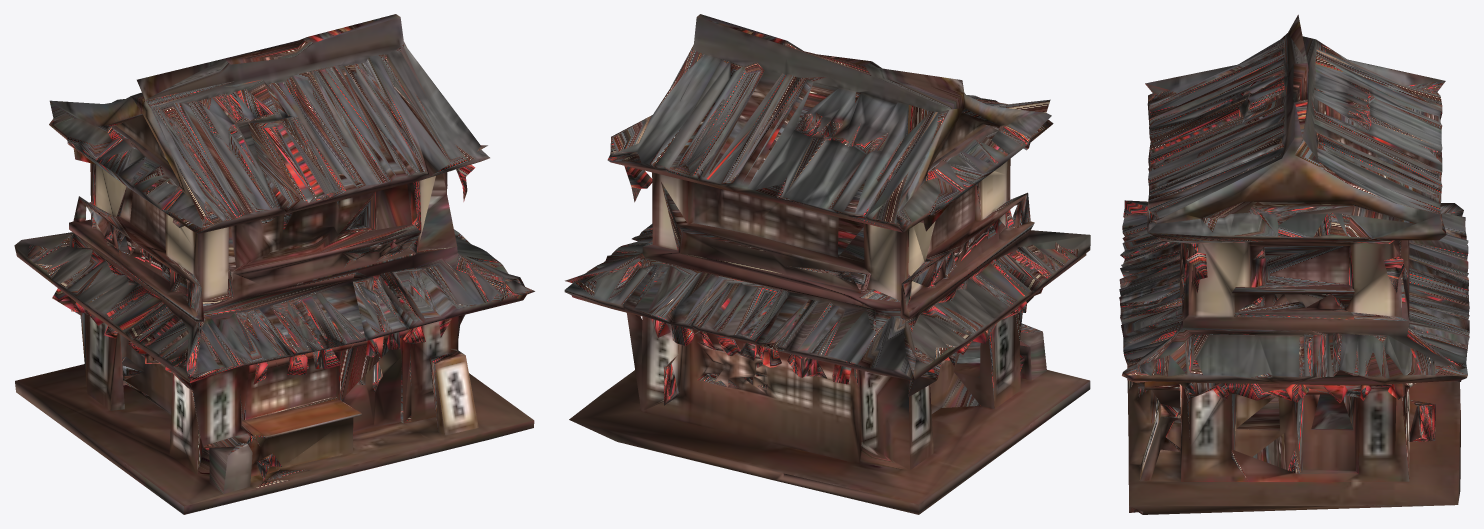
File: bq_shop_lantern.far.glb
3 renders of one model, left to right at view 1: azimuth 30°, elevation 25°; view 2: azimuth 150°, elevation 25°; view 3: azimuth 270°, elevation 25°, orthographic. The views are drawn at different scales.
Bounding box in the file's own units: 1.99 × 1.96 × 1.76.
Materials: 1 (1 with a texture image).
